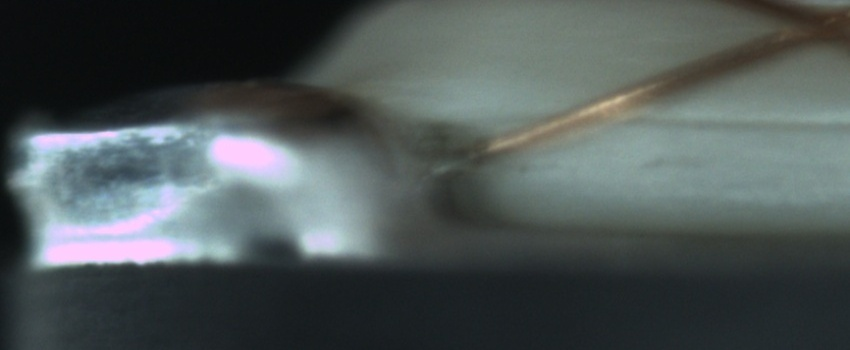CL: (759, 4, 841, 55)
DL: (543, 85, 845, 156)
